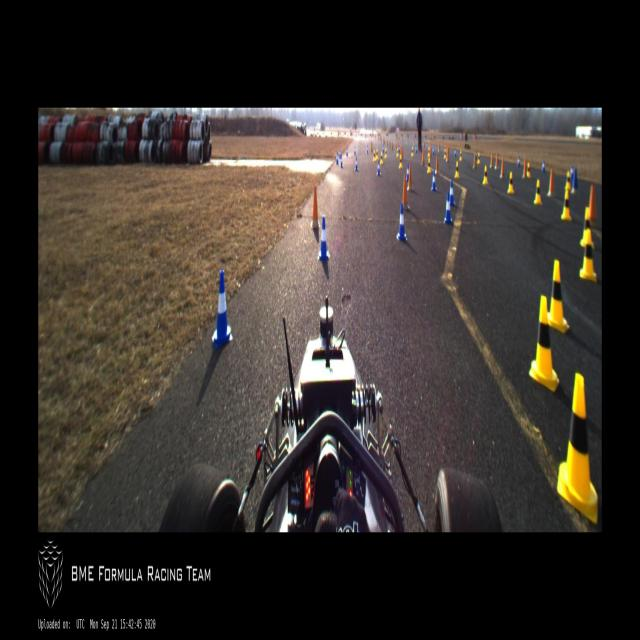blue_cone: (210, 267, 234, 348), (318, 216, 329, 261), (397, 204, 407, 241), (444, 192, 452, 225), (448, 178, 455, 206), (431, 170, 437, 192), (574, 168, 578, 190), (406, 165, 410, 183), (377, 161, 381, 177), (570, 164, 574, 180), (517, 156, 521, 167), (542, 158, 545, 172), (355, 158, 358, 171), (340, 156, 343, 167), (336, 152, 338, 163), (339, 148, 341, 158), (366, 144, 368, 154), (432, 146, 434, 156), (398, 144, 400, 154), (476, 150, 478, 160), (346, 148, 348, 157), (454, 148, 456, 157), (354, 146, 356, 154), (383, 144, 384, 154), (416, 145, 417, 153)
unknown_cone: (311, 186, 321, 229), (588, 184, 596, 218), (402, 174, 409, 210), (548, 168, 555, 196), (408, 163, 412, 190), (500, 156, 505, 177), (495, 152, 499, 170), (473, 152, 477, 168), (436, 154, 439, 171), (490, 152, 493, 169), (446, 145, 449, 162), (524, 158, 526, 178), (401, 147, 404, 158), (422, 148, 424, 164), (438, 143, 441, 152), (371, 140, 373, 152), (392, 140, 394, 149)
yellow_cone: (559, 376, 599, 521), (530, 292, 558, 394), (548, 260, 568, 334), (580, 230, 596, 282), (580, 206, 594, 249), (562, 189, 572, 222), (534, 177, 541, 205), (508, 171, 514, 194), (454, 162, 460, 180), (483, 164, 488, 185), (566, 170, 571, 190), (526, 162, 531, 178), (427, 158, 431, 173), (399, 154, 403, 168), (477, 152, 480, 165), (380, 151, 383, 163), (428, 146, 430, 158), (444, 148, 446, 160), (412, 146, 414, 157), (460, 150, 462, 161), (397, 147, 399, 157), (373, 151, 375, 160), (385, 148, 387, 157), (376, 150, 378, 158)
